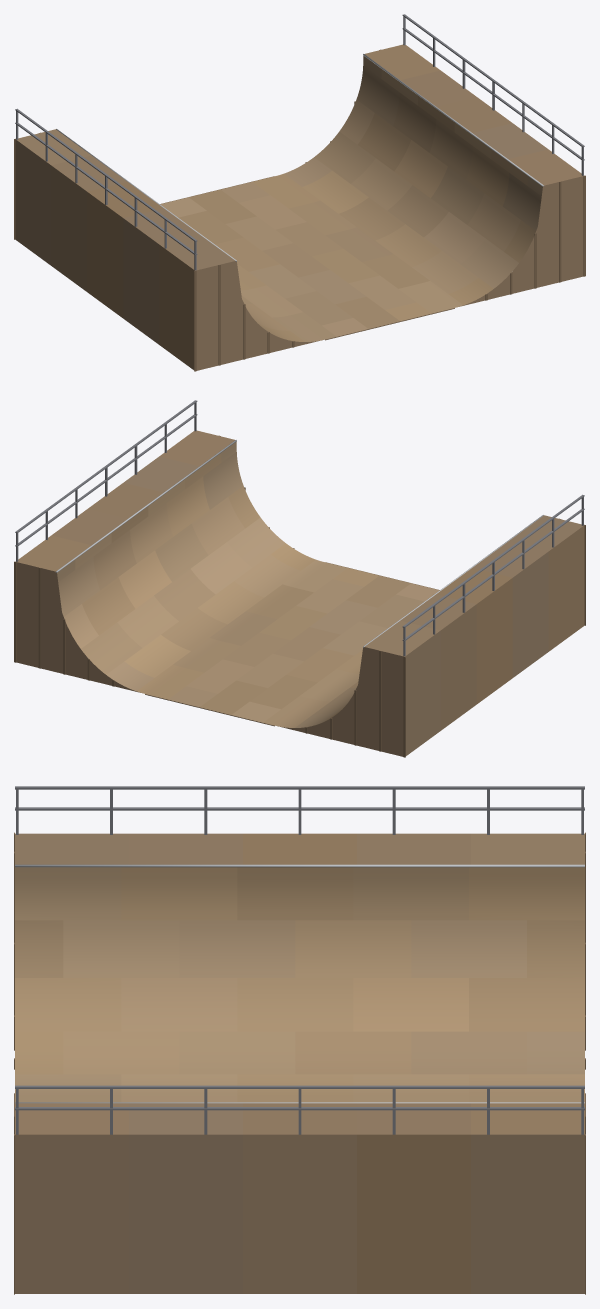
Rendered from set.glb.
3 views of the same model, one above another, from view 1: azimuth 30°, elevation 25°; view 2: azimuth 150°, elevation 25°; view 3: azimuth 270°, elevation 25° (orthographic). The views are drawn at different scales.
Parts seen in each view (by area): view 1: riding surface, frame, coping; view 2: riding surface, frame, coping; view 3: frame, riding surface, coping.
Part boxes in pixels (box(x1,y1,x2,y2)): riding surface: box(160, 55, 542, 341); frame: box(14, 14, 585, 371); coping: box(56, 54, 544, 261); riding surface: box(57, 441, 439, 727); frame: box(14, 400, 585, 757); coping: box(55, 440, 543, 647); frame: box(14, 786, 585, 1294); riding surface: box(15, 867, 584, 1102); coping: box(15, 864, 584, 1103).
Bounding box in the file's own units: 15.08 × 4.82 × 12.04.
